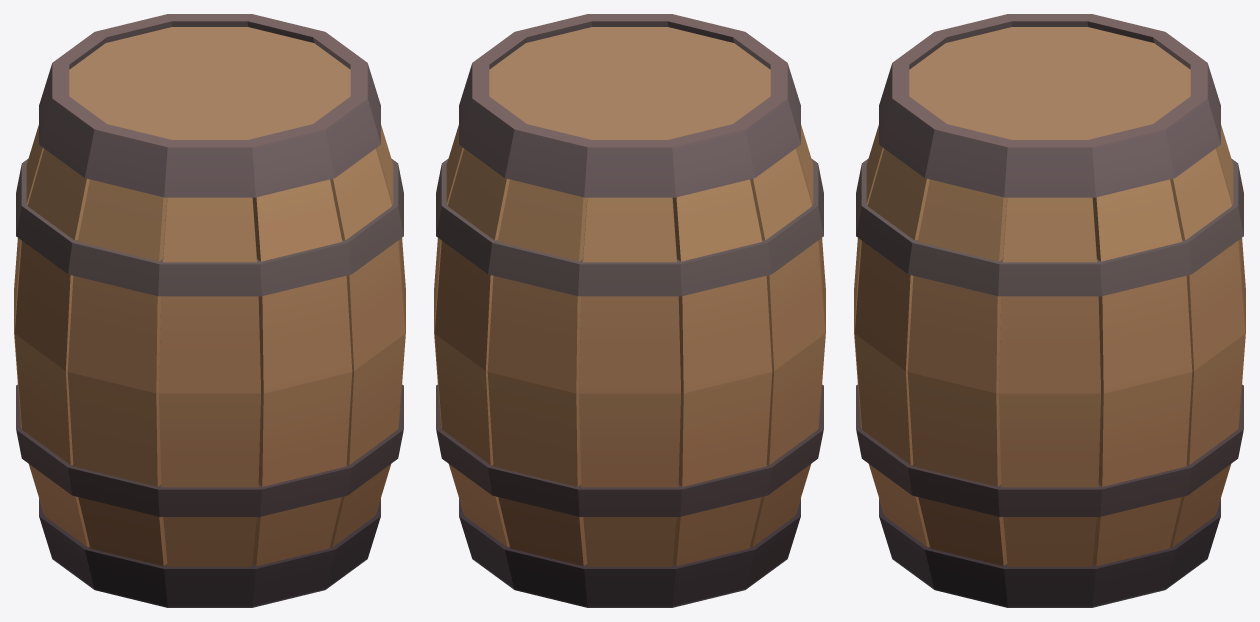
File: SM_Barrell_Closed_01.glb
3 views of the same model, side by side, from view 1: azimuth 30°, elevation 25°; view 2: azimuth 150°, elevation 25°; view 3: azimuth 270°, elevation 25° (orthographic).
Visible parts, largest first — view 1: SM_Barrell_Closed_01; view 2: SM_Barrell_Closed_01; view 3: SM_Barrell_Closed_01.
Part boxes in pixels (x1=…): SM_Barrell_Closed_01: x1=14, y1=14, x2=405, y2=607; SM_Barrell_Closed_01: x1=434, y1=14, x2=825, y2=607; SM_Barrell_Closed_01: x1=854, y1=14, x2=1245, y2=607.
Size of the model in its own units: 0.8604 by 1.12 by 0.8604.
Materials: 1 (1 with a texture image).
